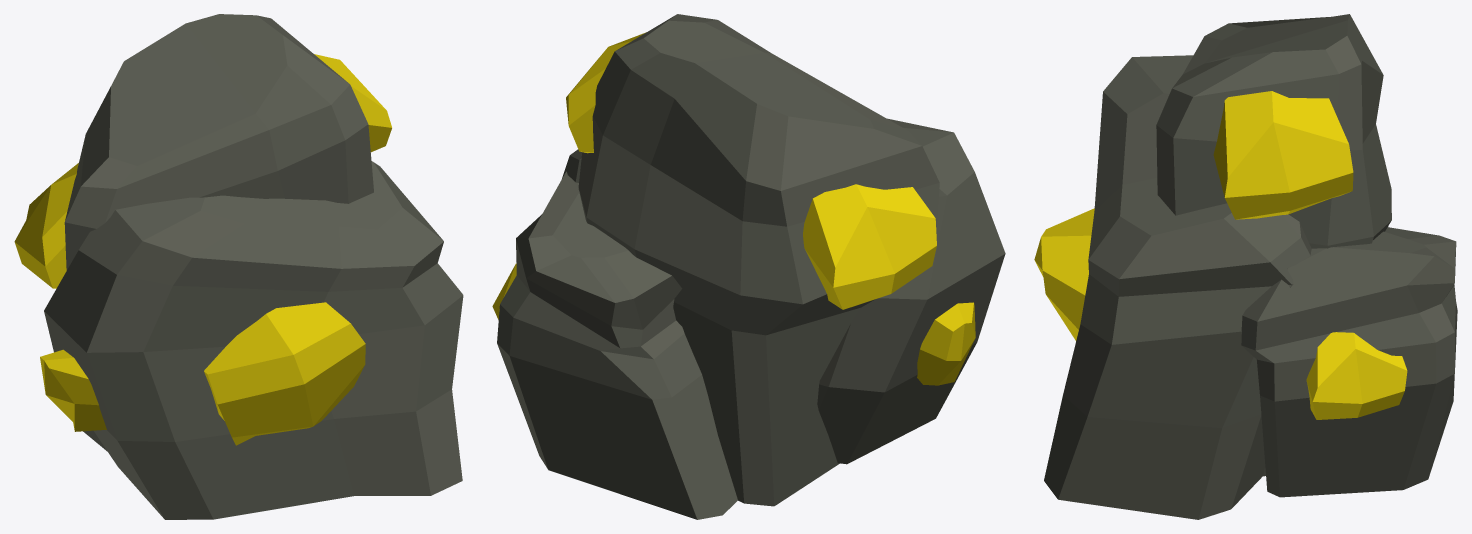
File: Ore2_Gold.fbx
The picture shows the model from 3 angles, left to right: view 1: azimuth 30°, elevation 25°; view 2: azimuth 150°, elevation 25°; view 3: azimuth 270°, elevation 25°; orthographic projection. The views are drawn at different scales.
Parts seen in each view (by area): view 1: Ore2_Gold, Gold; view 2: Ore2_Gold, Gold; view 3: Ore2_Gold, Gold.
Part boxes in pixels (left/top/right/bottom): Ore2_Gold: left=44, top=14, right=463, bottom=519; Gold: left=14, top=54, right=391, bottom=445; Ore2_Gold: left=497, top=14, right=1005, bottom=519; Gold: left=492, top=32, right=975, bottom=385; Ore2_Gold: left=1044, top=14, right=1457, bottom=519; Gold: left=1034, top=91, right=1407, bottom=419.
Size of the model in its own units: 211 by 201 by 188.
